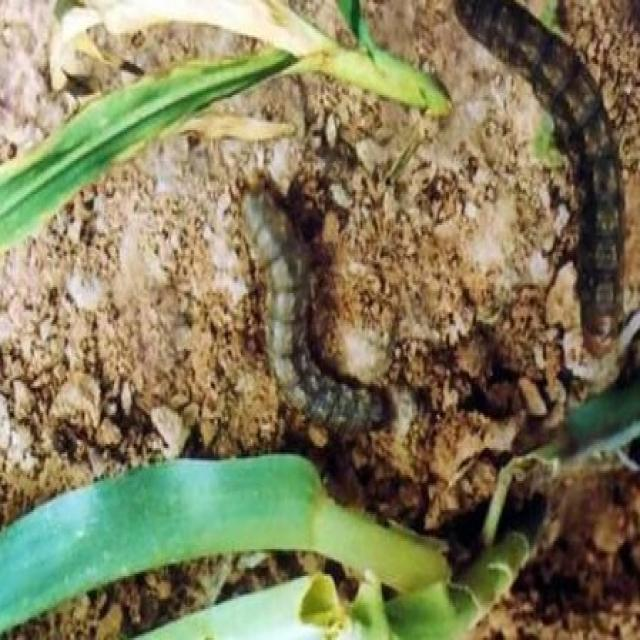black cutworm: (448, 1, 625, 362), (234, 184, 392, 442)
